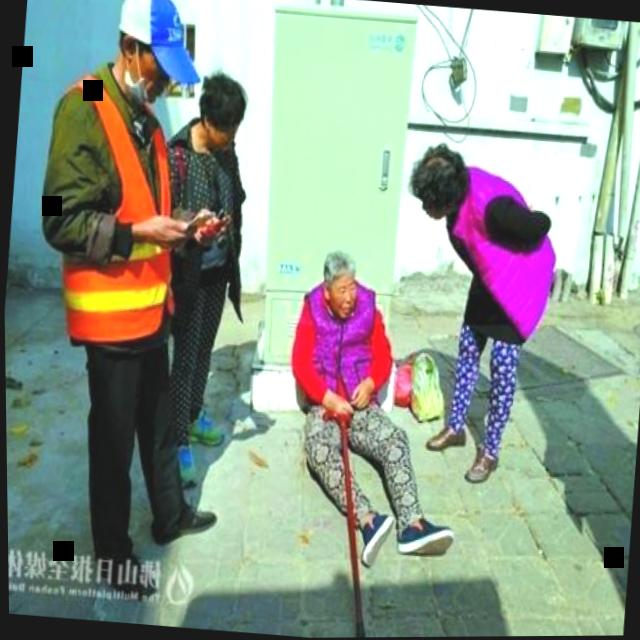Fall-Detected: (260, 229, 492, 565)
